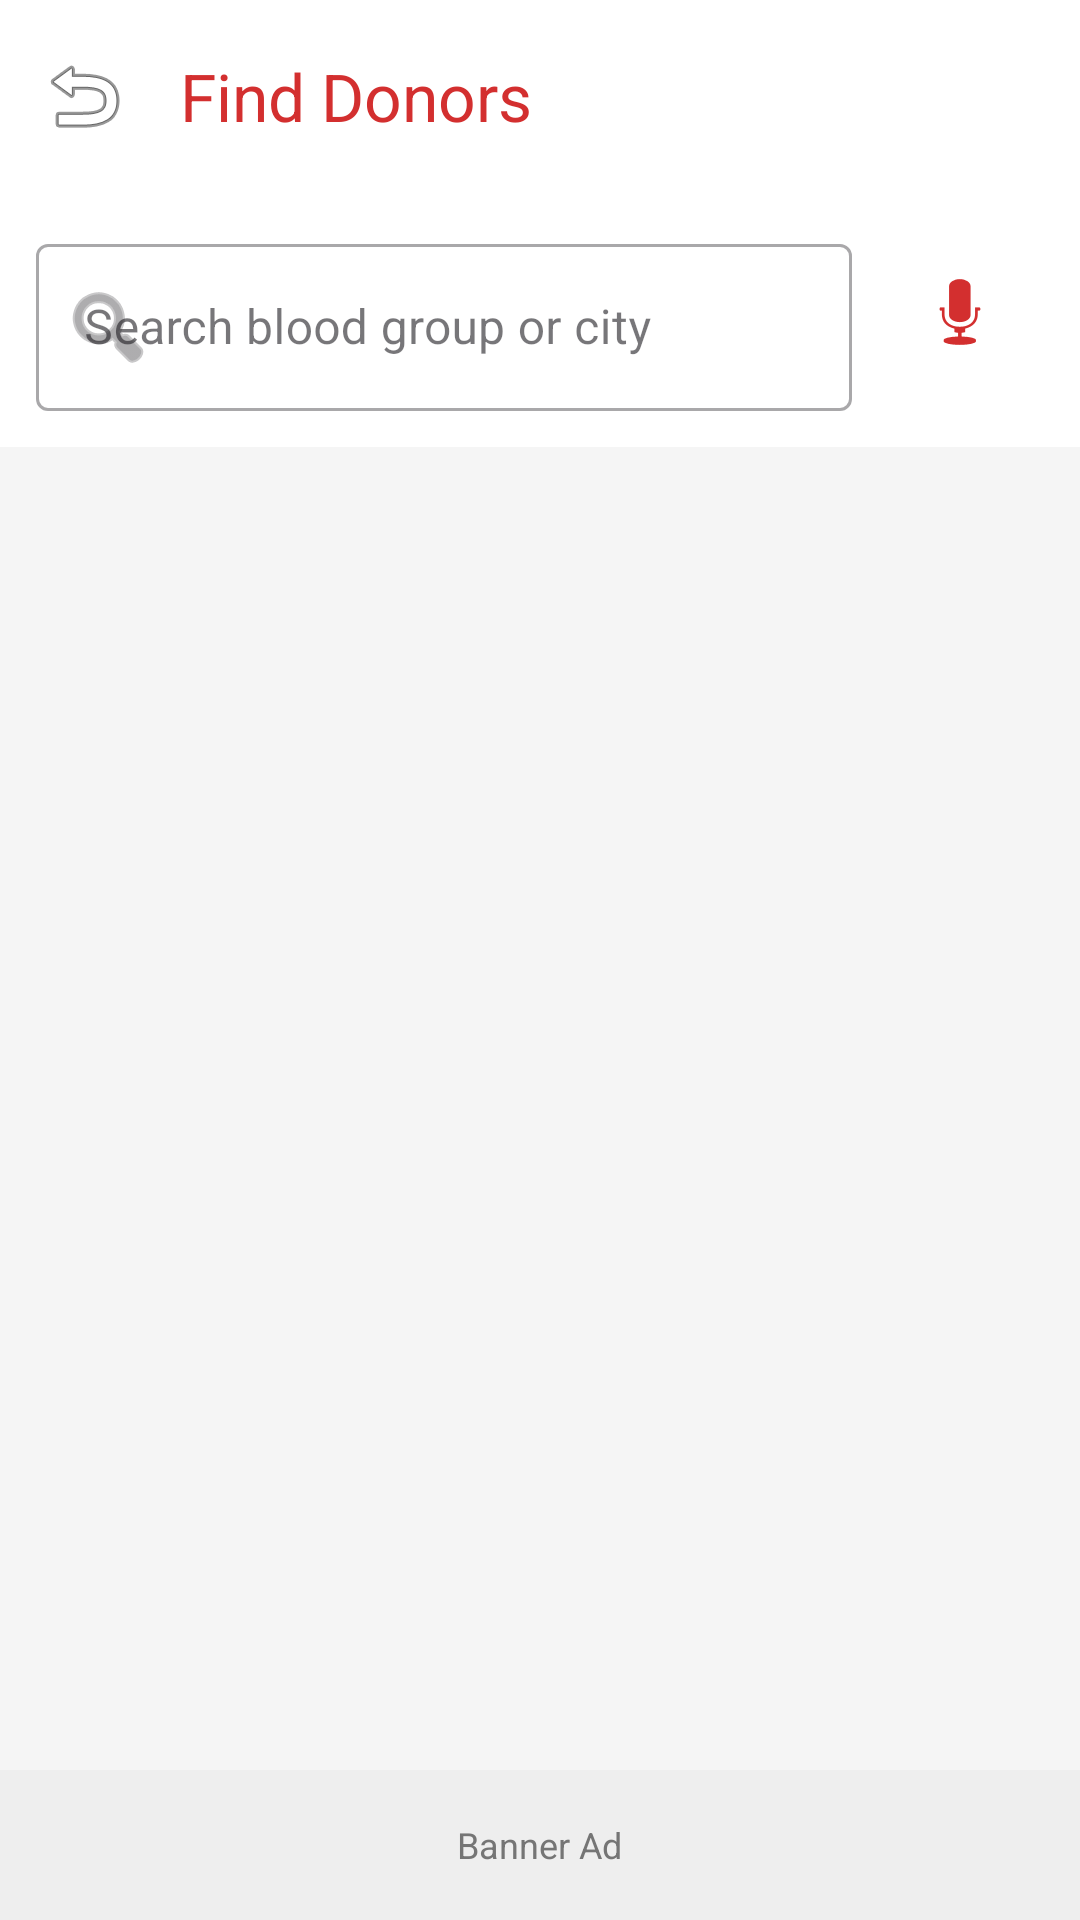

Named icons in this screenshot (1080 × 1920) and their centers, point (x, y):
speak now: point (960, 312)
